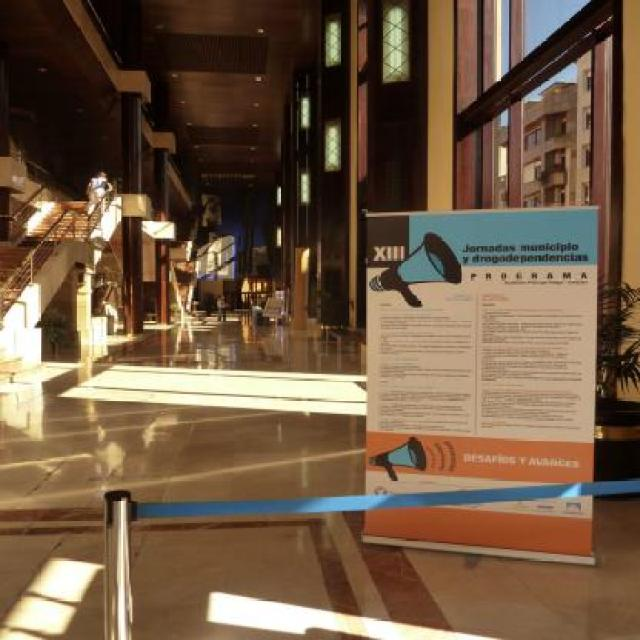stair: (0, 198, 112, 318)
